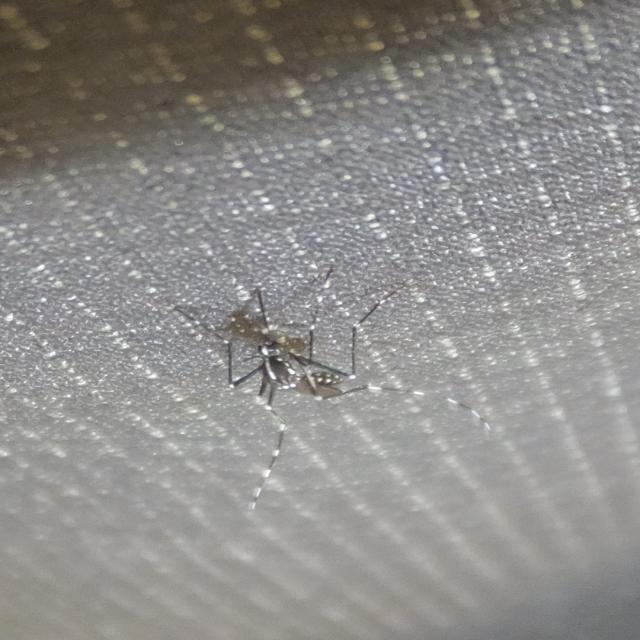albopictus: (187, 255, 505, 512)
